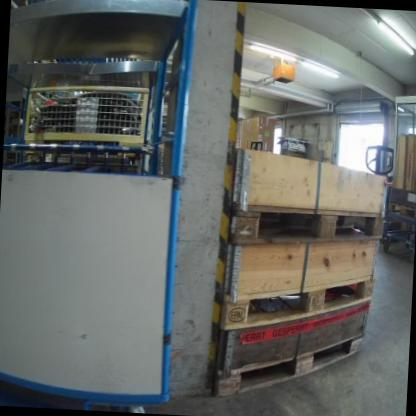pallet: (212, 324, 366, 407), (217, 267, 375, 340), (228, 203, 385, 253), (386, 201, 416, 220)
pallet_truck: (364, 145, 395, 176), (249, 137, 265, 151)
stillage: (18, 75, 151, 148)
